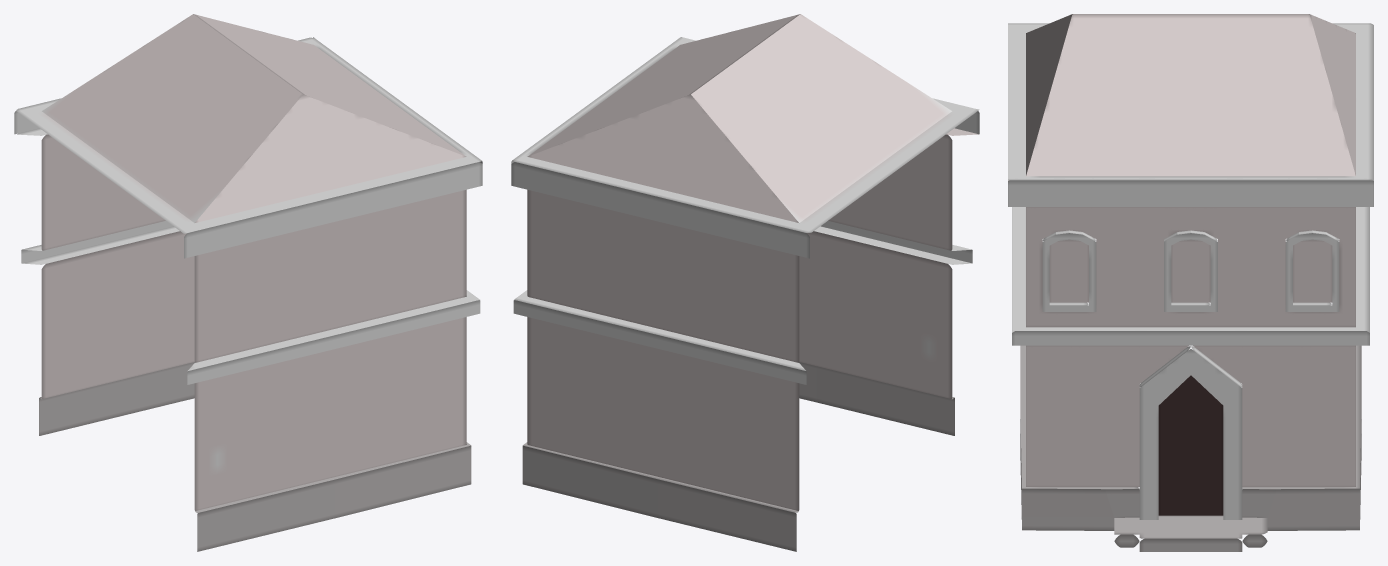
3 views of the same model, side by side, from view 1: azimuth 30°, elevation 25°; view 2: azimuth 150°, elevation 25°; view 3: azimuth 270°, elevation 25° (orthographic). The views are drawn at different scales.
Parts seen in each view (by area): view 1: Cube; view 2: Cube; view 3: Cube.
Boxes of the visible parts, x1,y1,x2,y2 form: Cube: [14, 14, 482, 551]; Cube: [511, 14, 979, 551]; Cube: [1008, 14, 1373, 551].
Size of the model in its own units: 223 by 259 by 195.
Materials: 1 (1 with a texture image).
